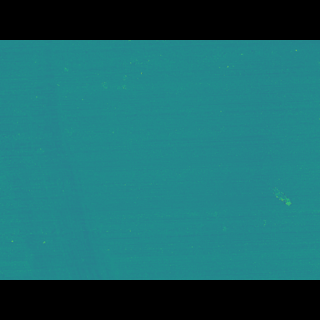Loch: (0, 91, 115, 251)
